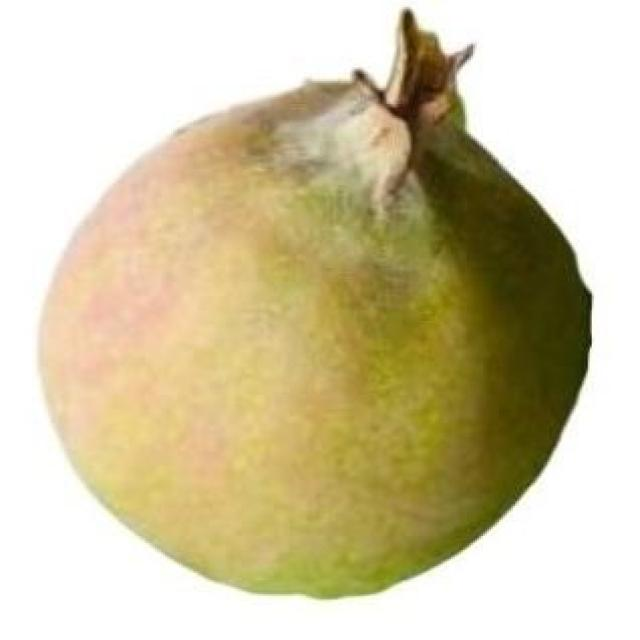Rotten Apple: (42, 31, 592, 604)
